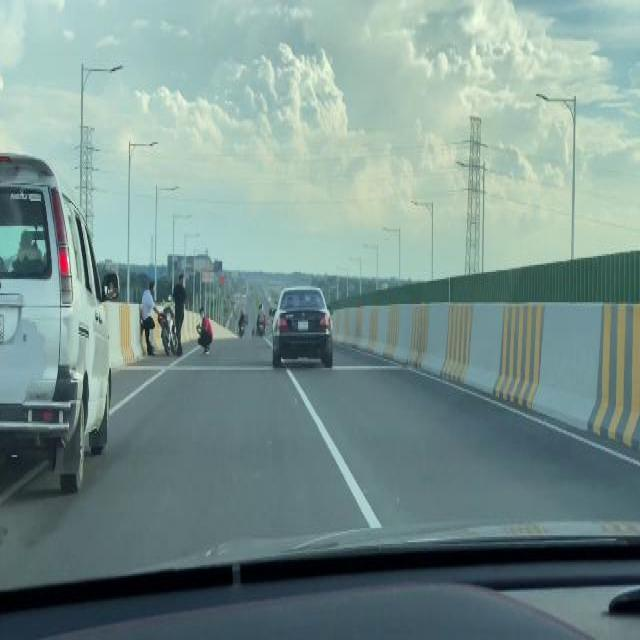car: (268, 284, 332, 366)
motorbike: (158, 298, 178, 356), (256, 304, 266, 336), (238, 310, 245, 337)
van: (4, 152, 120, 492)
